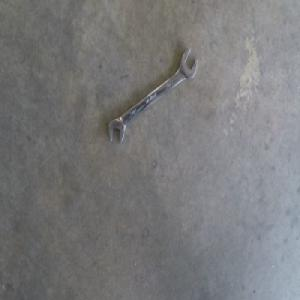Wrench: (111, 50, 200, 144)
